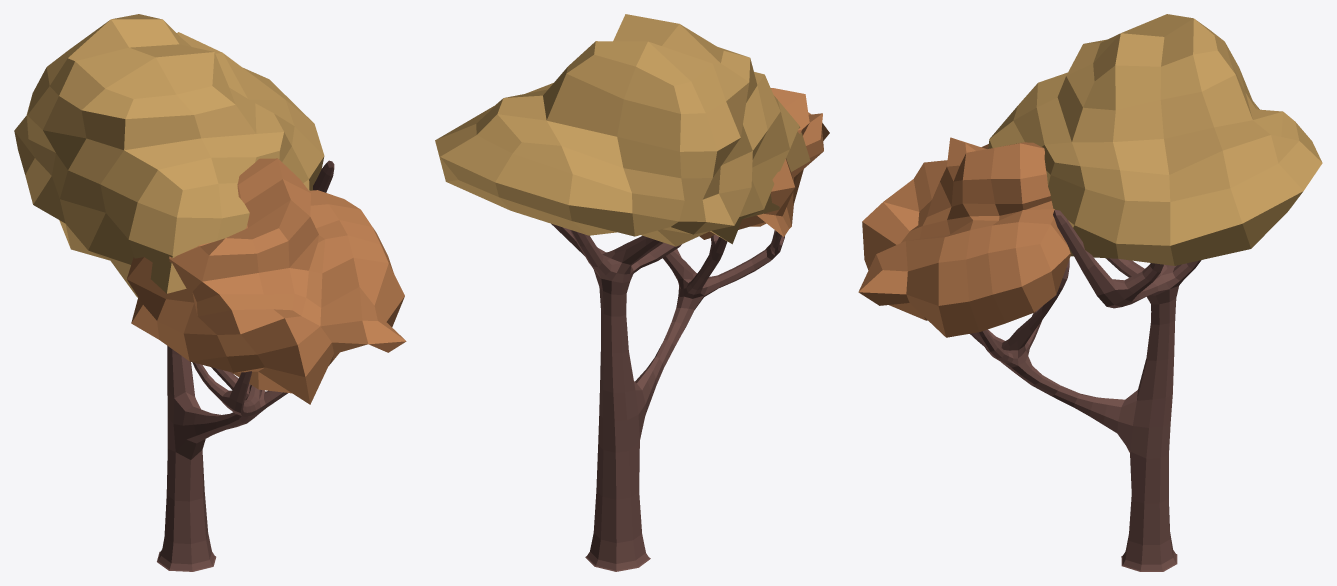
The model's file is q_tree_autumn_2.gltf.
3 renders of one model, left to right at view 1: azimuth 30°, elevation 25°; view 2: azimuth 150°, elevation 25°; view 3: azimuth 270°, elevation 25°, orthographic. The views are drawn at different scales.
Visible parts, largest first — view 1: CommonTree_Autumn_2; view 2: CommonTree_Autumn_2; view 3: CommonTree_Autumn_2.
Boxes of the visible parts, box(x1,y1,x2,y2) form: CommonTree_Autumn_2: box(14, 14, 406, 571); CommonTree_Autumn_2: box(435, 14, 829, 571); CommonTree_Autumn_2: box(858, 14, 1322, 571).
Size of the model in its own units: 4.16 by 7.81 by 6.35.
